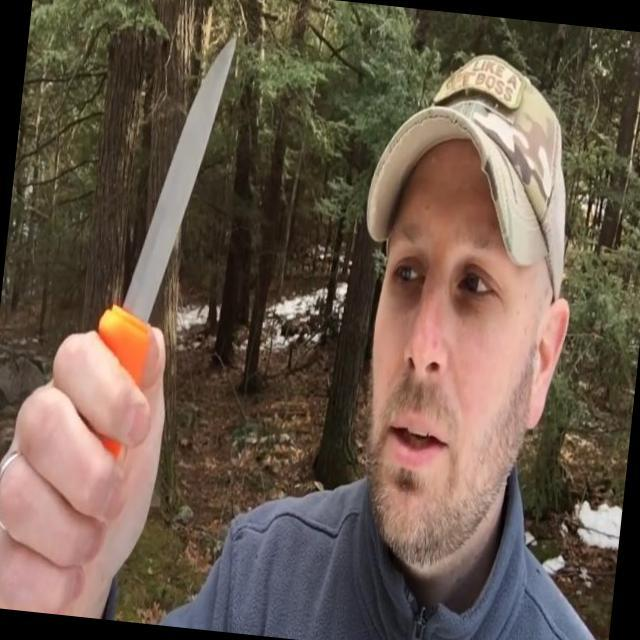Knife: (26, 0, 249, 515)
